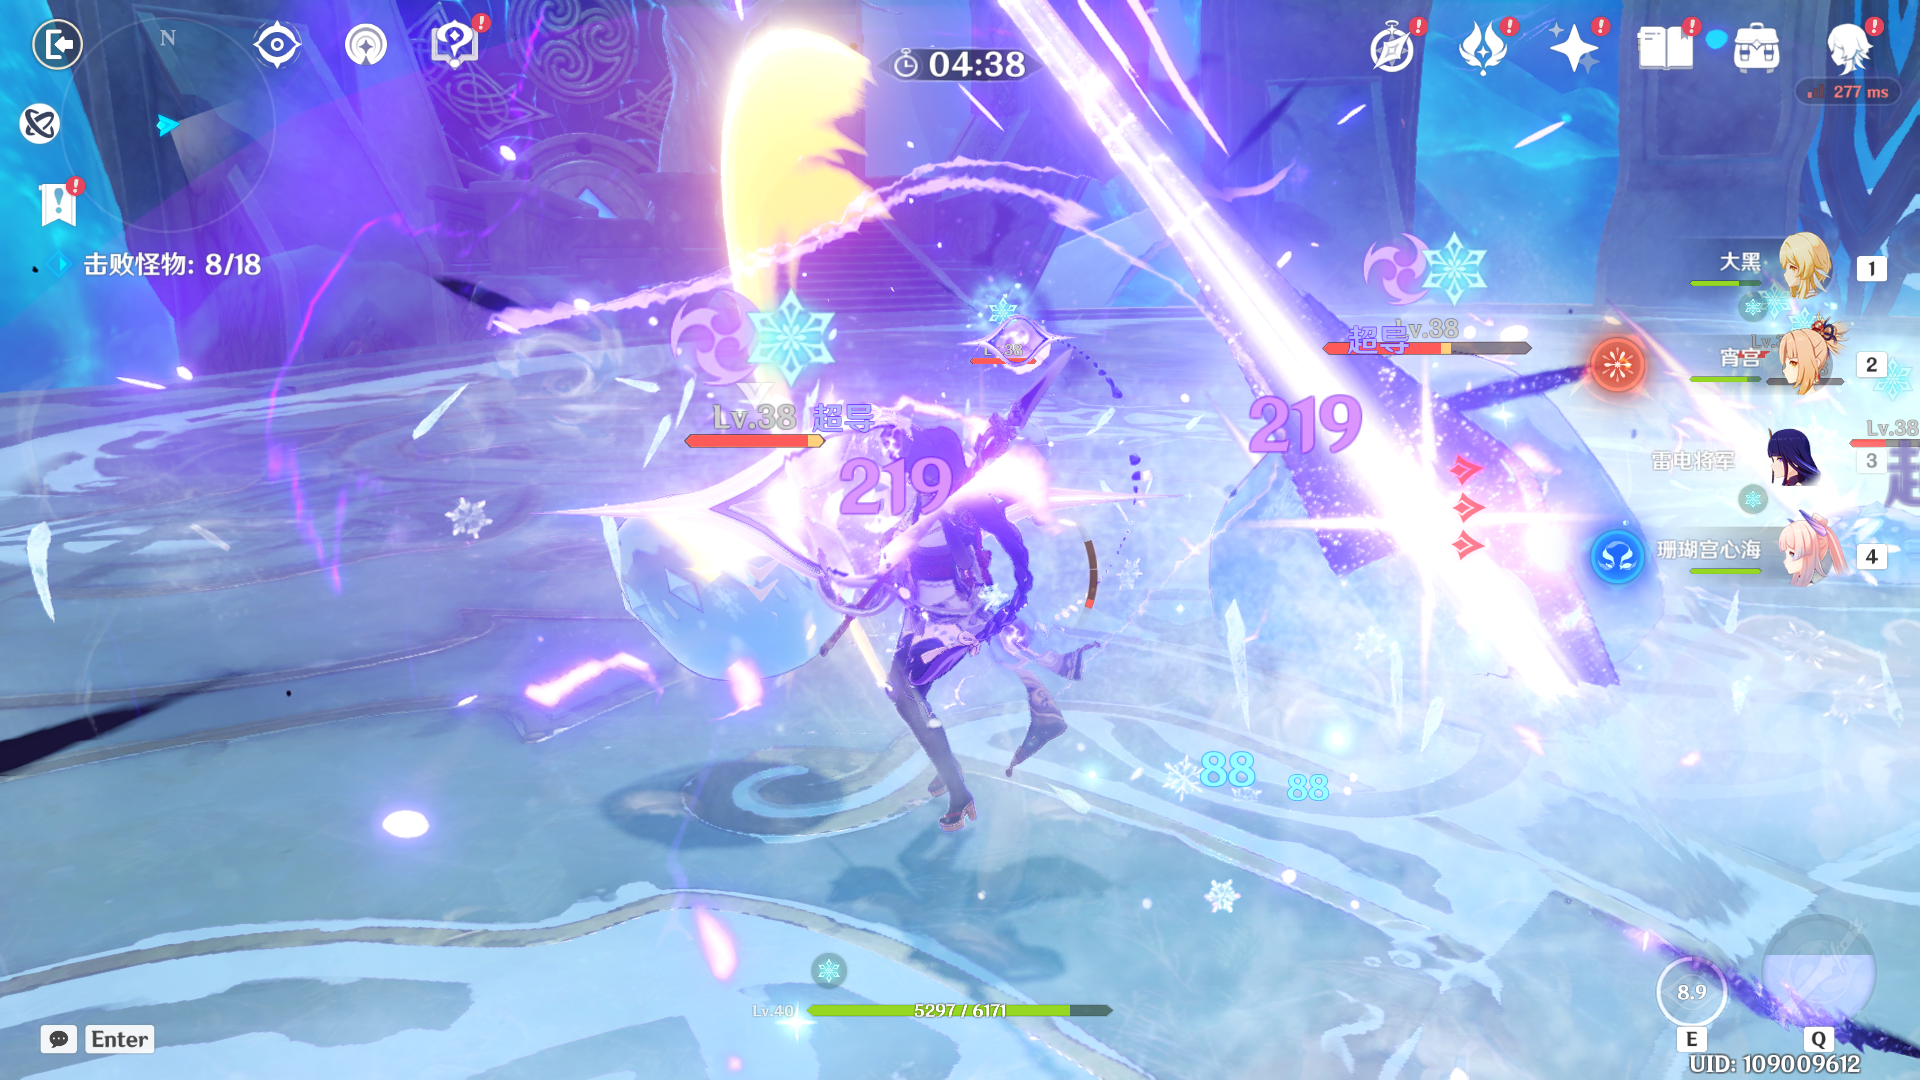character: (822, 404, 1106, 855)
slime: (595, 477, 844, 687)
